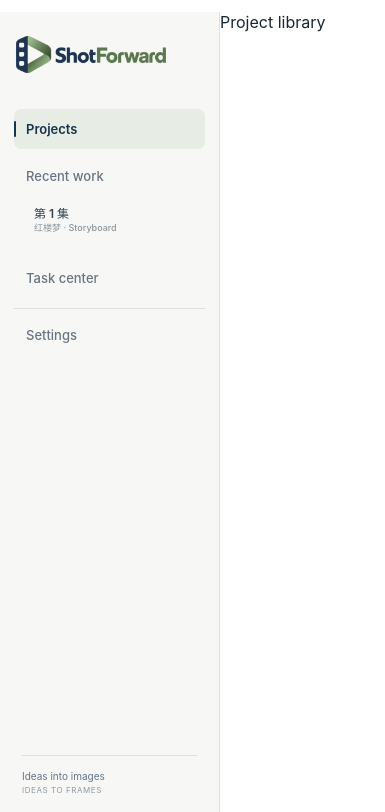
Test case: AppShell project navigation › uses Projects as the primary entry and groups recent work beneath it
The image size is (385, 812).
Check: the element labelled "Recent work 第 1 集 红楼梦 · Storyboard" is shown, box [26,168,117,233]
Click the link "第 1 集 红楼梦 · Storyboard" at (75, 219), box [34,206,117,233]
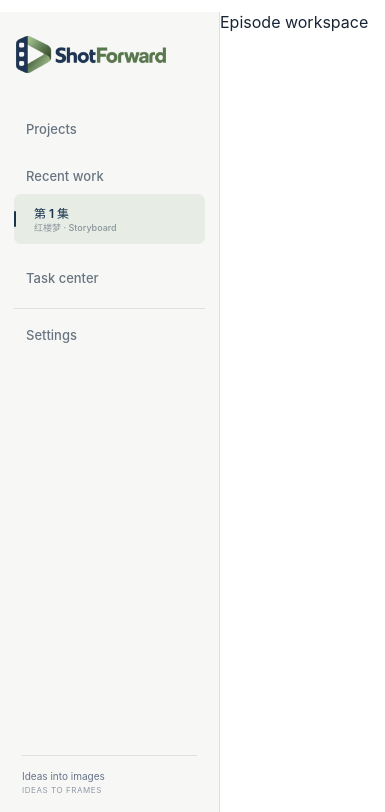
Check: the text "Episode workspace" is shown, box [220,12,368,32]
